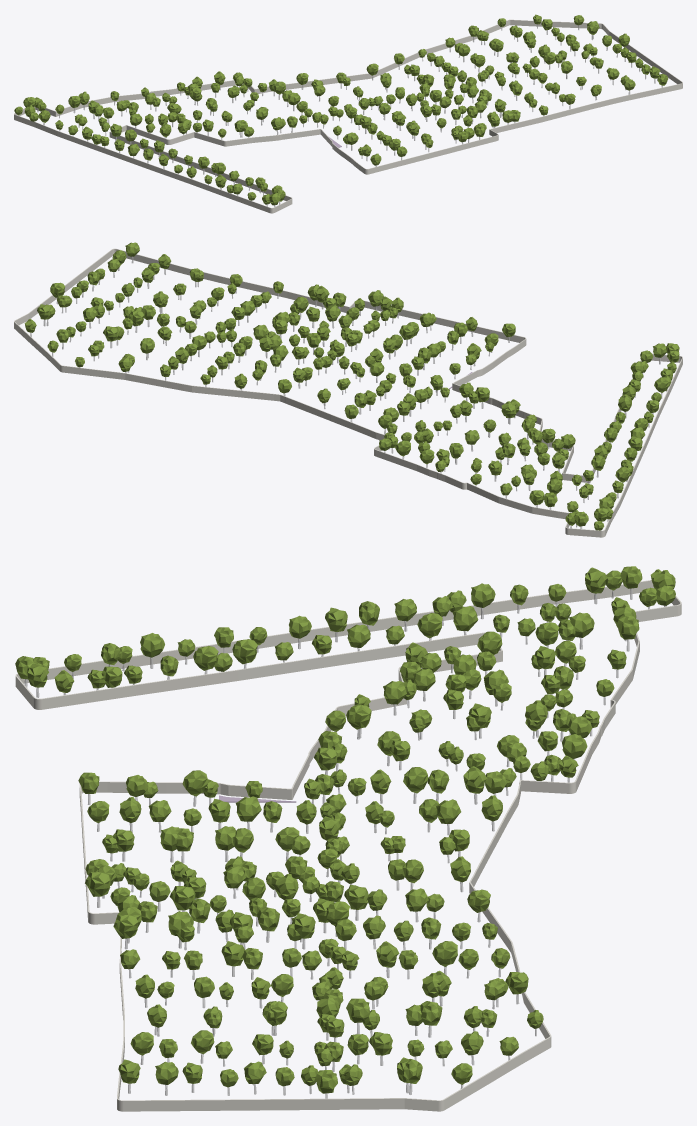
Rendered from stream.glb.
3 renders of one model, top to bottom at view 1: azimuth 30°, elevation 25°; view 2: azimuth 150°, elevation 25°; view 3: azimuth 270°, elevation 25°, orthographic. The views are drawn at different scales.
Parts seen in each view (by area): view 1: CompoundWall; view 2: CompoundWall; view 3: CompoundWall.
Part boxes in pixels (box(x1,y1,x2,y2)): CompoundWall: box(14, 19, 682, 213); CompoundWall: box(14, 248, 682, 537); CompoundWall: box(15, 580, 681, 1111).
Size of the model in its own units: 253 by 8.03 by 136.
